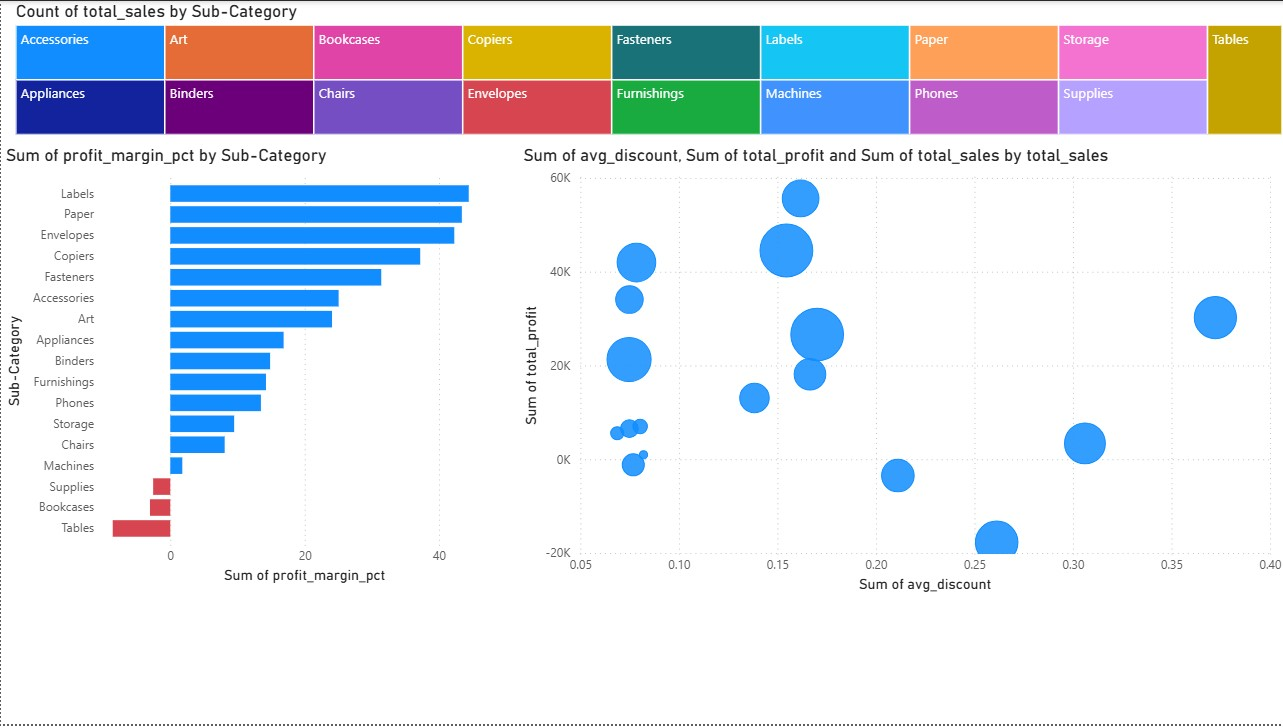

What the dashboard file says about the page in this screenshot:
{"tool":"powerbi","page":{"name":"Page 4","canvas":[1280,720],"ordinal":3},"visuals":[{"type":"treemap","fields":{"Group":["ProfitMargin.Sub-Category"],"Values":["CountNonNull(ProfitMargin.total_sales)"]},"box":[10,0,1270.1,138.1],"z":0},{"type":"clusteredBarChart","fields":{"Category":["ProfitMargin.Sub-Category"],"Y":["Sum(ProfitMargin.profit_margin_pct)"]},"box":[0,143.1,515,441.6],"z":1},{"type":"scatterChart","fields":{"X":["Sum(Discount_impact.avg_discount)"],"Y":["Sum(Discount_impact.total_profit)"],"Category":["Discount_impact.total_sales"],"Size":["Sum(Discount_impact.total_sales)"]},"box":[515,143.1,765,450.3],"z":2}]}

Visuals, with their boxes in screenshot pixels (x1, y1, x2, y2), scaled from the page's 1280x720 canvas onto the 1283x727 screenshot:
treemap - ProfitMargin.Sub-Category x CountNonNull(ProfitMargin.total_sales): 10,0,1282,139
clusteredBarChart - ProfitMargin.Sub-Category x Sum(ProfitMargin.profit_margin_pct): 0,144,516,590
scatterChart - Sum(Discount_impact.avg_discount) x Sum(Discount_impact.total_profit): 516,144,1282,599
